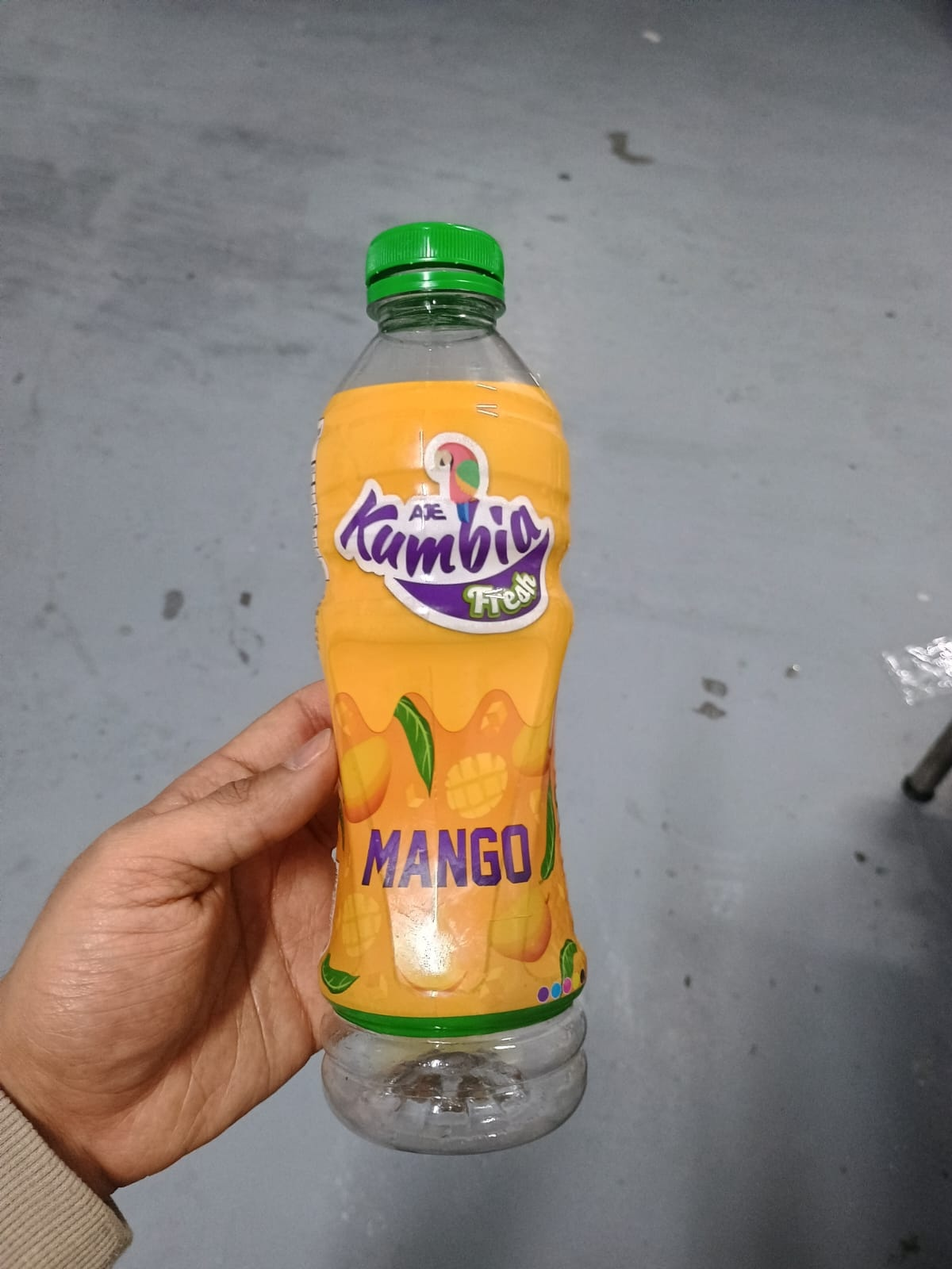Plastico: (312, 225, 588, 1154)
